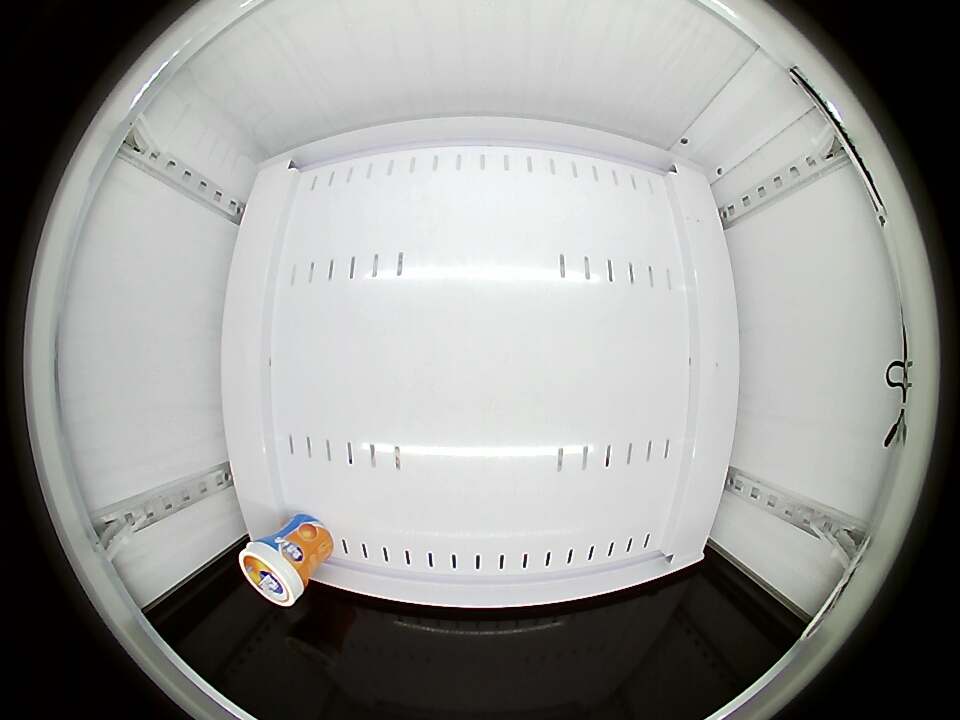yida: (240, 539, 309, 607)
